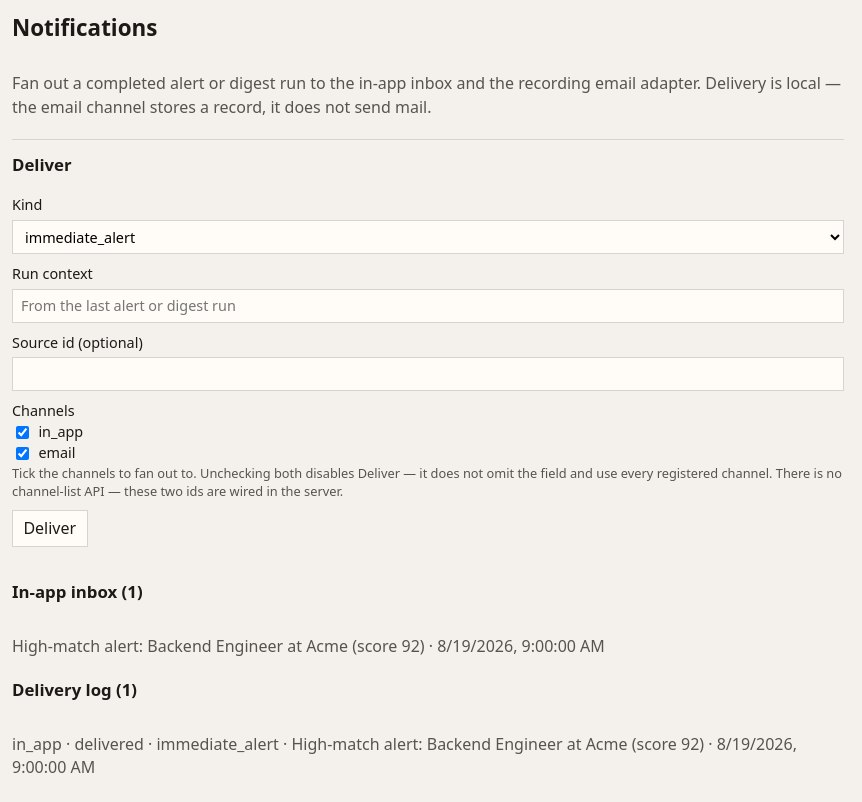
Test: NotificationsPage › shows failed_count on a 200 without an error banner
Type "run-1" into the field labelled "Run context" at (428, 306), box [12,289,844,323]
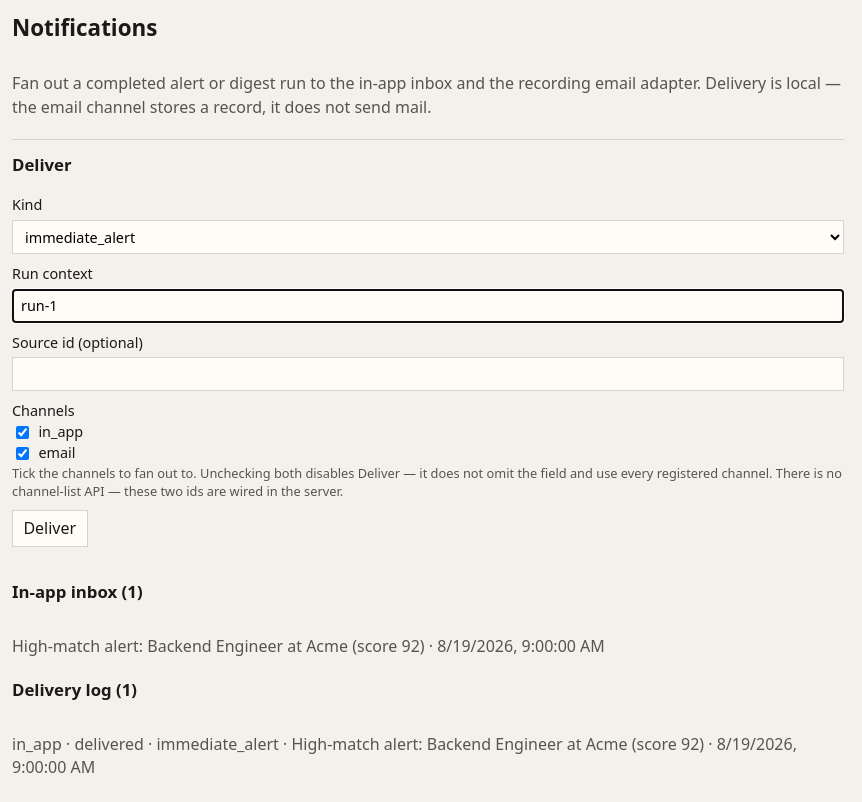
Click the button "Deliver" at (50, 529), box [12,510,88,547]
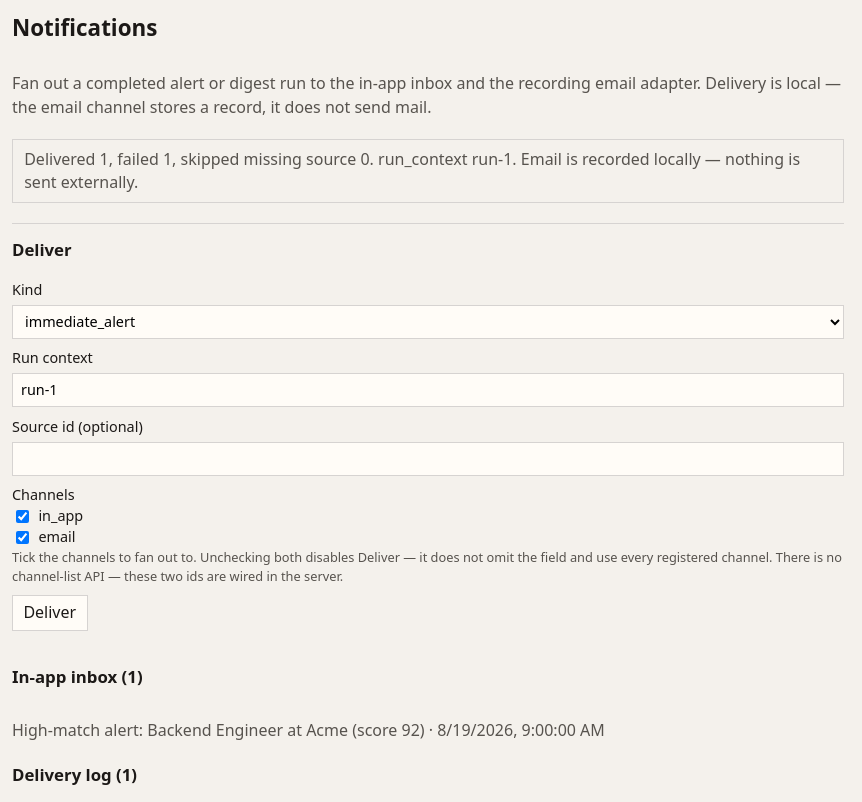
expect the message shows "failed 1": met, box [24,148,800,193]
